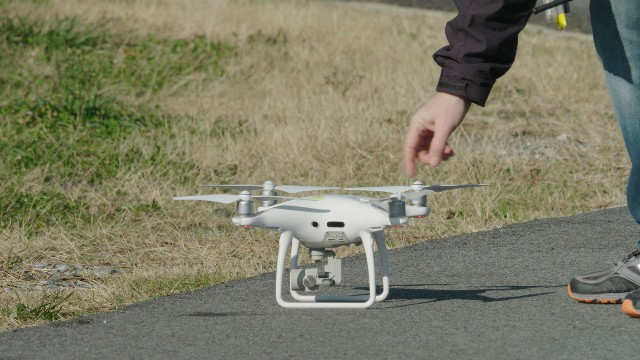maybay_khongnguoilai: (182, 170, 477, 305)
